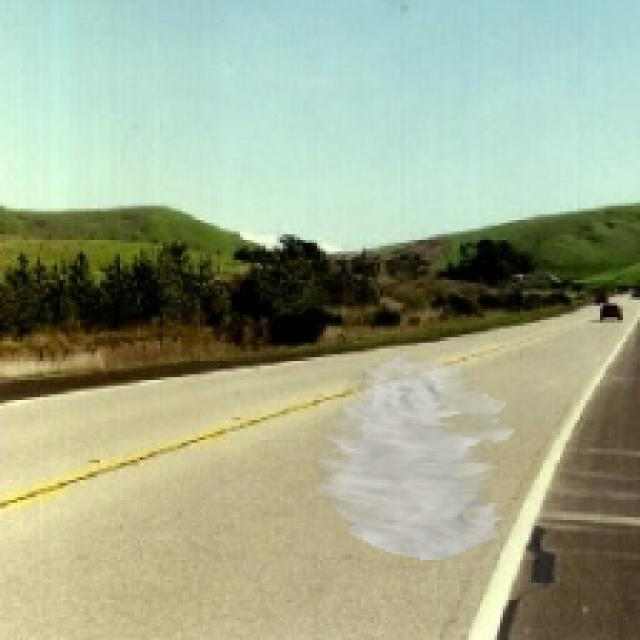smoke: (312, 357, 514, 560)
